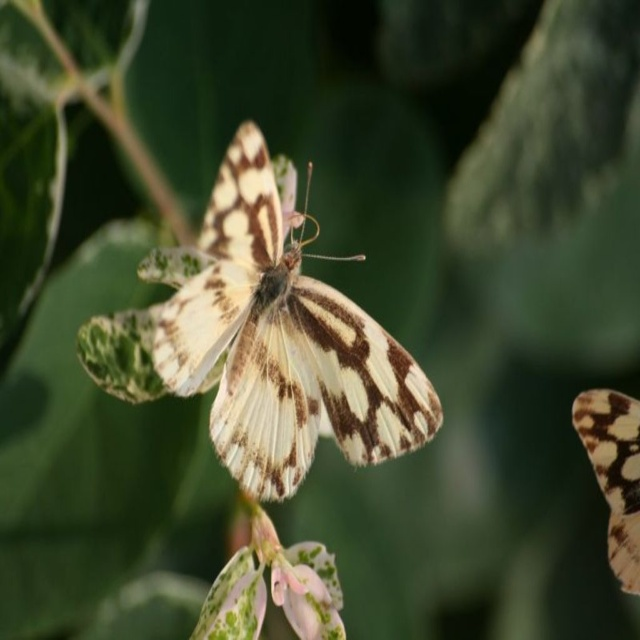Butterfly: (87, 124, 439, 508), (570, 384, 639, 600)
